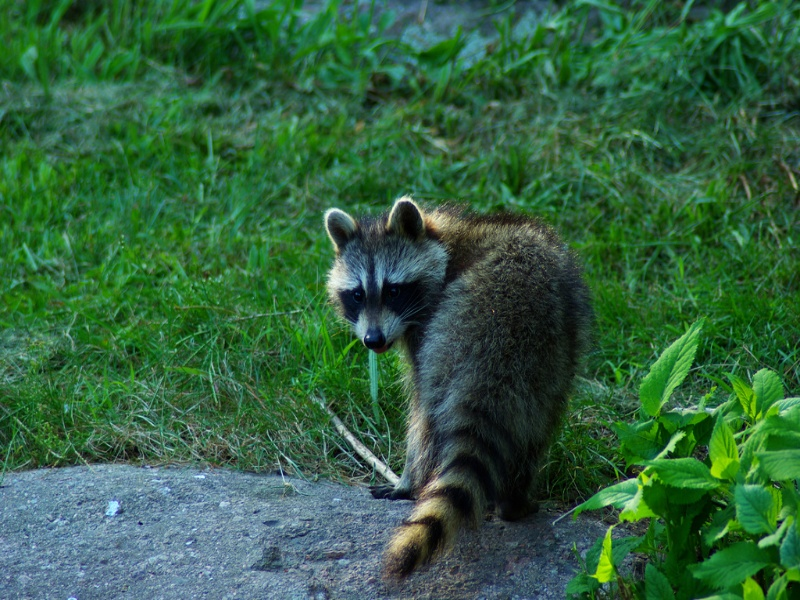raccoon: (319, 197, 593, 578)
